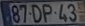3: (66, 2, 77, 22)
4: (58, 3, 67, 23)
7: (18, 4, 27, 24)
8: (10, 4, 20, 24)
D: (30, 3, 42, 24)
P: (40, 3, 52, 24)
